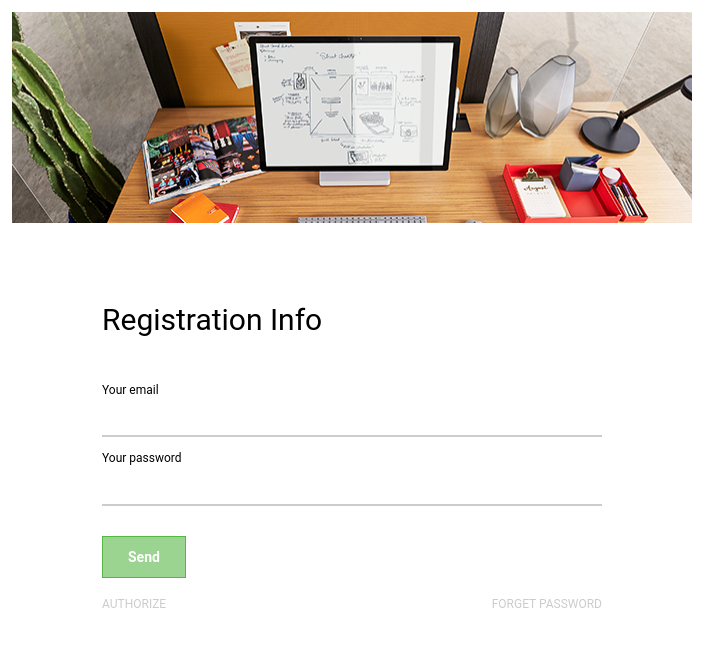
RegisterForm › input email › too long
The image size is (709, 649).
Type "loki999282342234234234346ty546547456456546/jkdxjlmnkfvbcvb@yandex.ru" into the field with test id "input_email". click: (352,418)
box: [102,399,602,438]
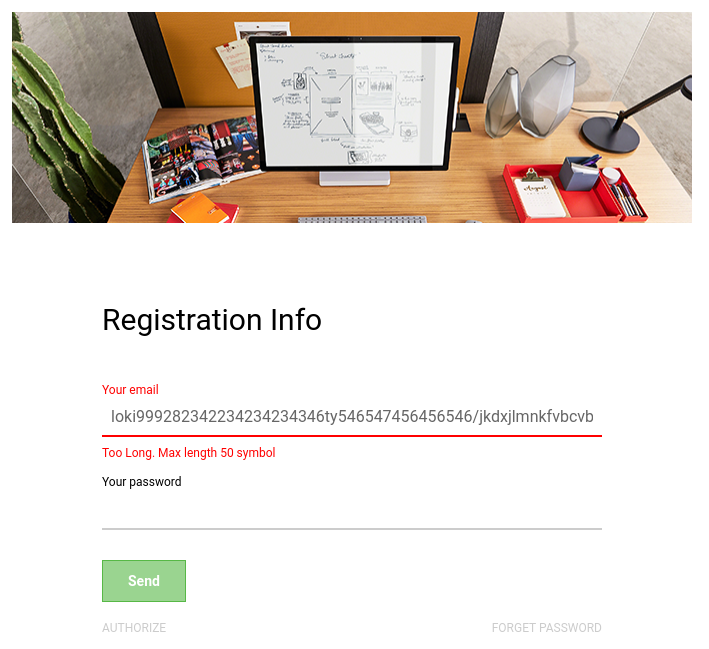
Check: the element with test id "test_email" reads "Too Long. Max length 50 symbol", box [102,446,276,460]
